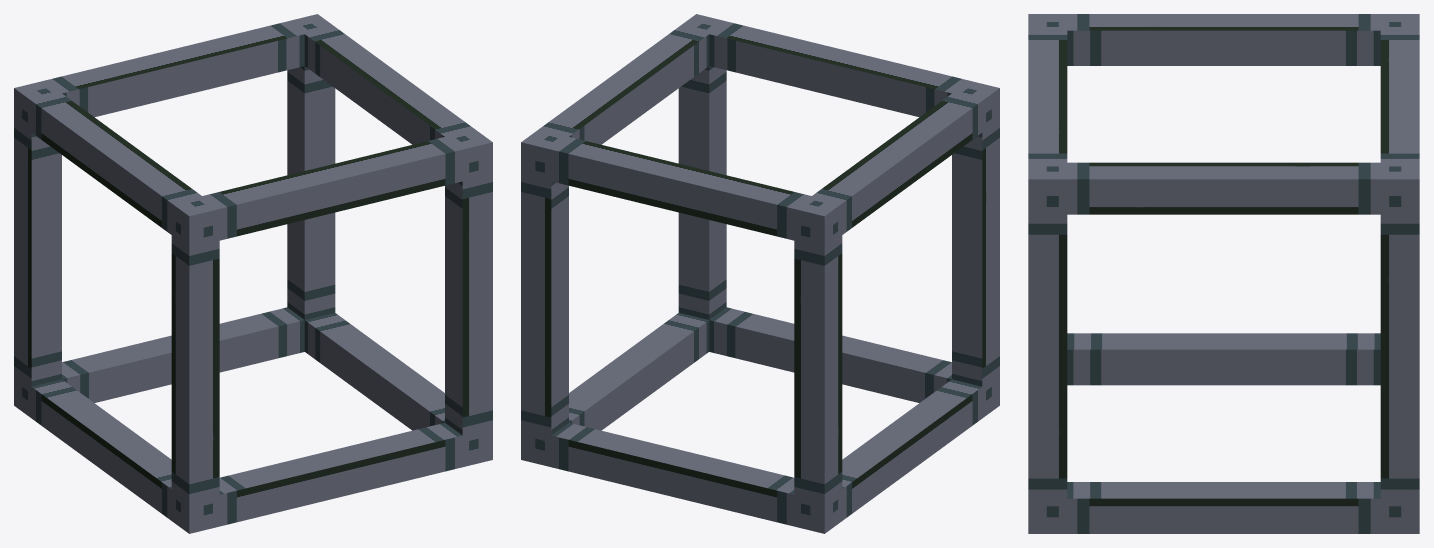
File: trafficblockframe.glb
3 views of the same model, side by side, from view 1: azimuth 30°, elevation 25°; view 2: azimuth 150°, elevation 25°; view 3: azimuth 270°, elevation 25° (orthographic). The views are drawn at different scales.
Parts seen in each view (by area): view 1: Cube; view 2: Cube; view 3: Cube.
Part boxes in pixels (left/top/right/bottom): Cube: left=14, top=14, right=492, bottom=533; Cube: left=521, top=14, right=999, bottom=533; Cube: left=1028, top=14, right=1419, bottom=533.
Bounding box in the file's own units: 2 × 2 × 2.
1 material, 1 textured.
